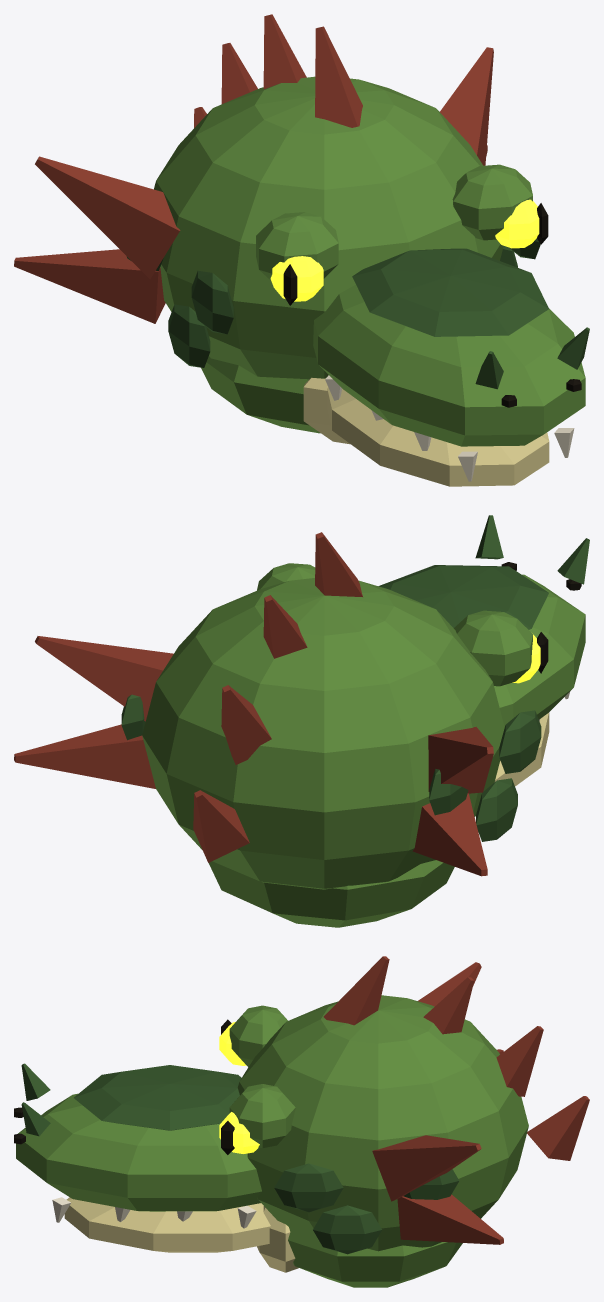
Rendered from lizard_head.glb.
3 renders of one model, top to bottom at view 1: azimuth 30°, elevation 25°; view 2: azimuth 150°, elevation 25°; view 3: azimuth 270°, elevation 25°, orthographic. The views are drawn at different scales.
Visible parts, largest first — view 1: lizard_head; view 2: lizard_head; view 3: lizard_head.
Part boxes in pixels (<box>): lizard_head: <box>14,14,589,486</box>; lizard_head: <box>14,515,589,927</box>; lizard_head: <box>14,956,589,1287</box>.
Bounding box in the file's own units: 1.38 × 1.07 × 1.76.
